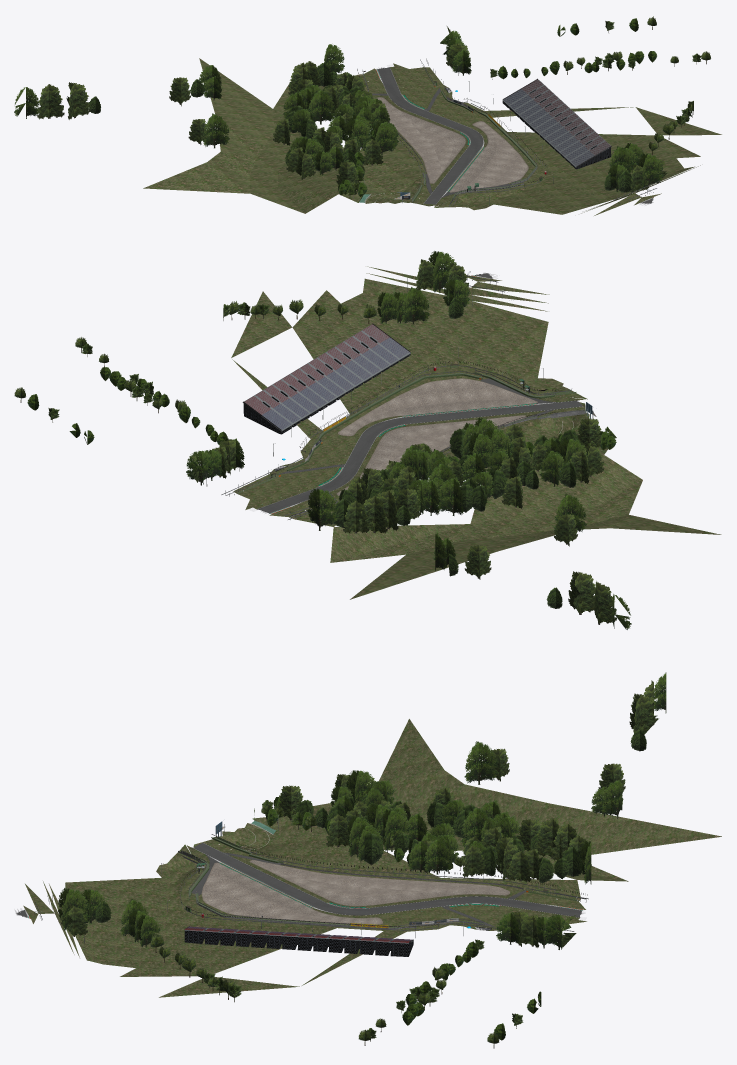
3 views of the same model, one above another, from view 1: azimuth 30°, elevation 25°; view 2: azimuth 150°, elevation 25°; view 3: azimuth 270°, elevation 25° (orthographic). The views are drawn at different scales.
Parts seen in each view (by area): view 1: tile_t01; view 2: tile_t01; view 3: tile_t01.
Boxes of the visible parts, box(x1,y1,x2,y2) form: tile_t01: box(14, 16, 721, 215); tile_t01: box(14, 251, 721, 629); tile_t01: box(15, 672, 721, 1048).
Size of the model in its own units: 511 by 52.27 by 437.
Materials: 34 (34 with a texture image).
